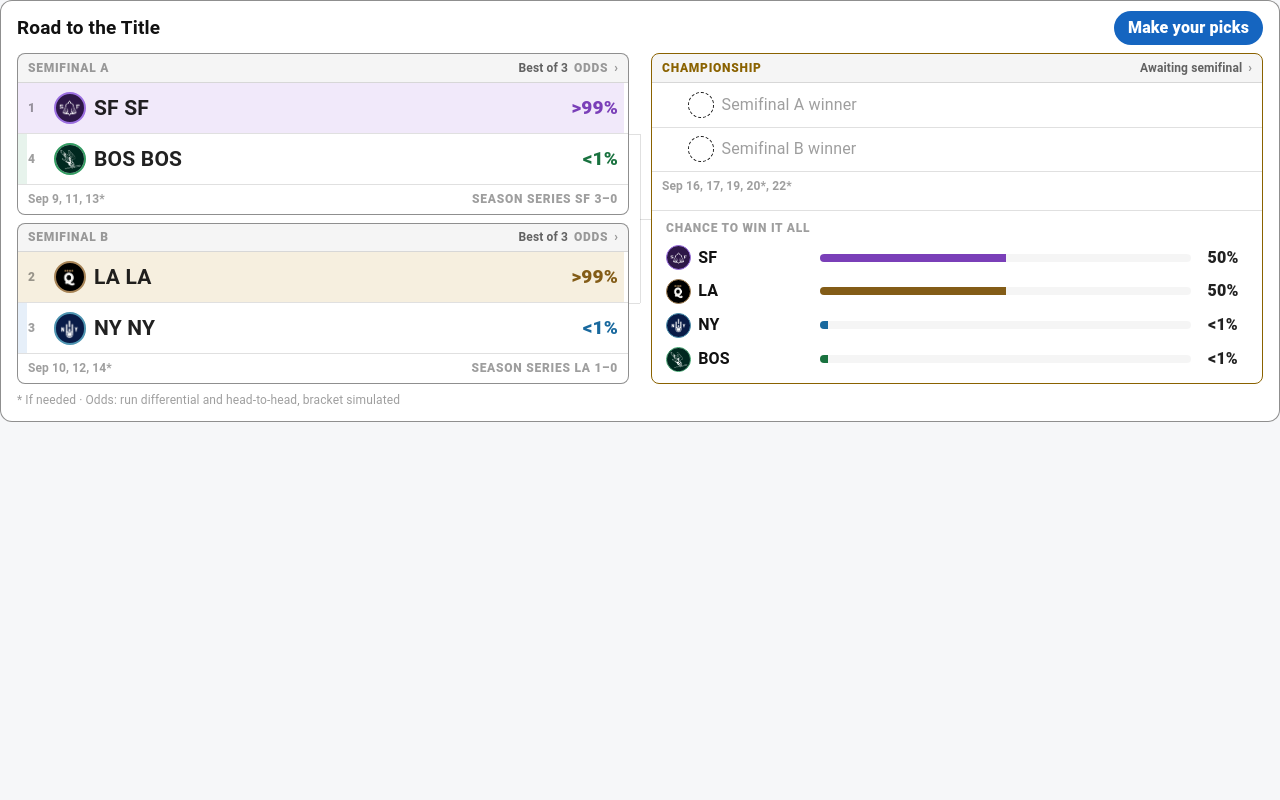
Scenario: picking a series › asks the championship in three, four or five
Click the button "Make your picks": (1188, 28) x1=1114 y1=11 x2=1263 y2=45
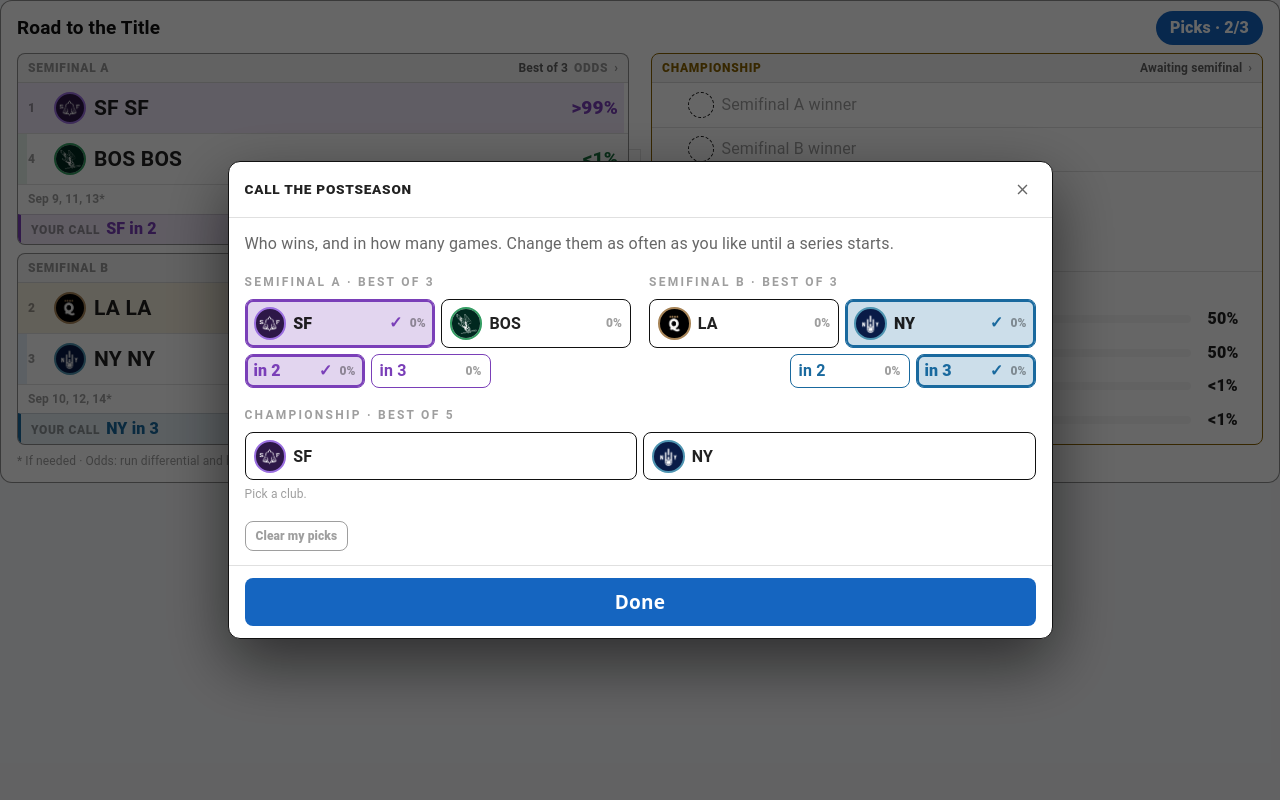
Check: the text "Call the postseason" is shown, box x1=244 y1=181 x2=412 y2=197
Click the radio button with aria-label "Championship: SF to win": (441, 456) x1=244 y1=432 x2=637 y2=480
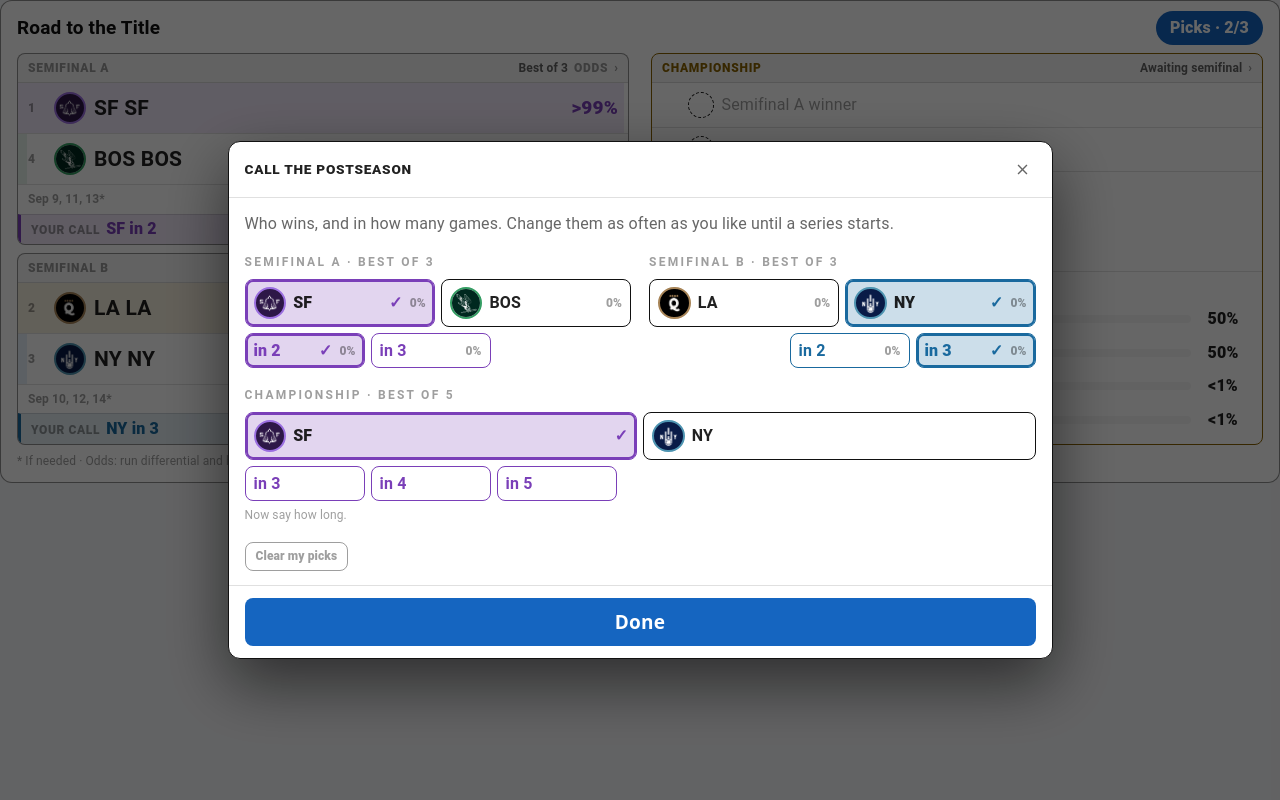
Check: the radio button with aria-label "Championship: SF in 5" is shown, box x1=496 y1=466 x2=616 y2=501
